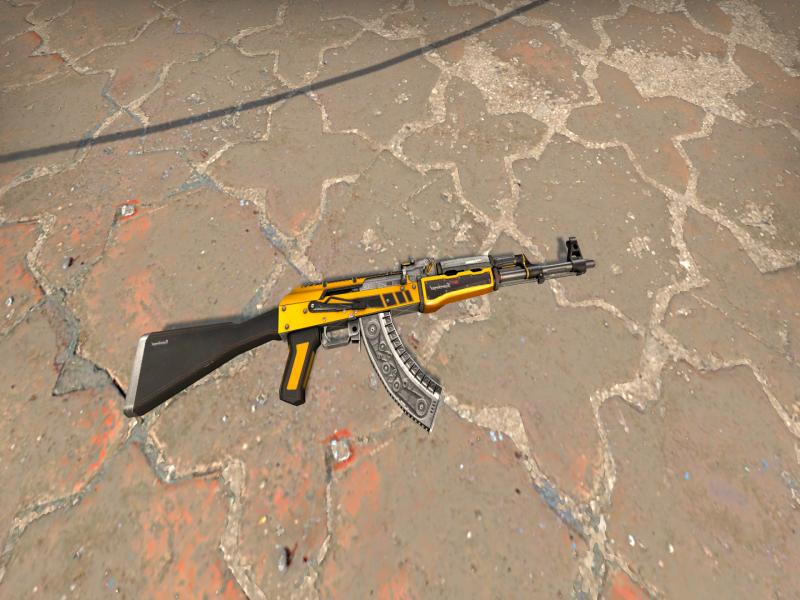AK47: (125, 238, 594, 429)
